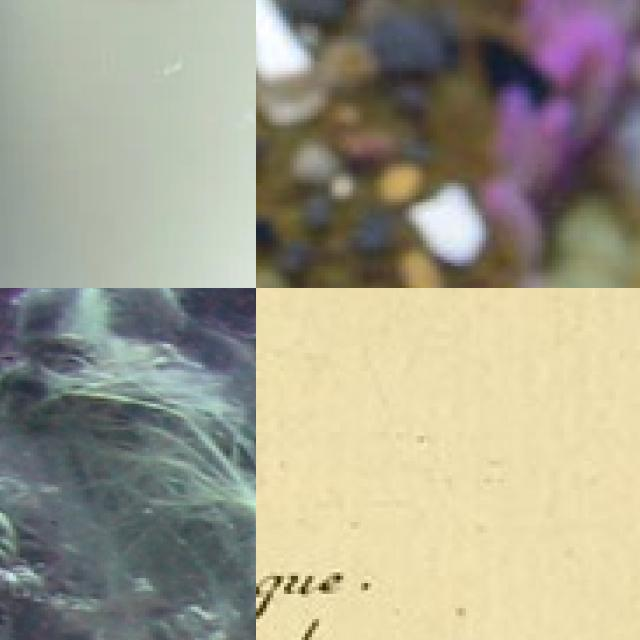fish: (0, 0, 256, 288), (256, 208, 640, 288)
